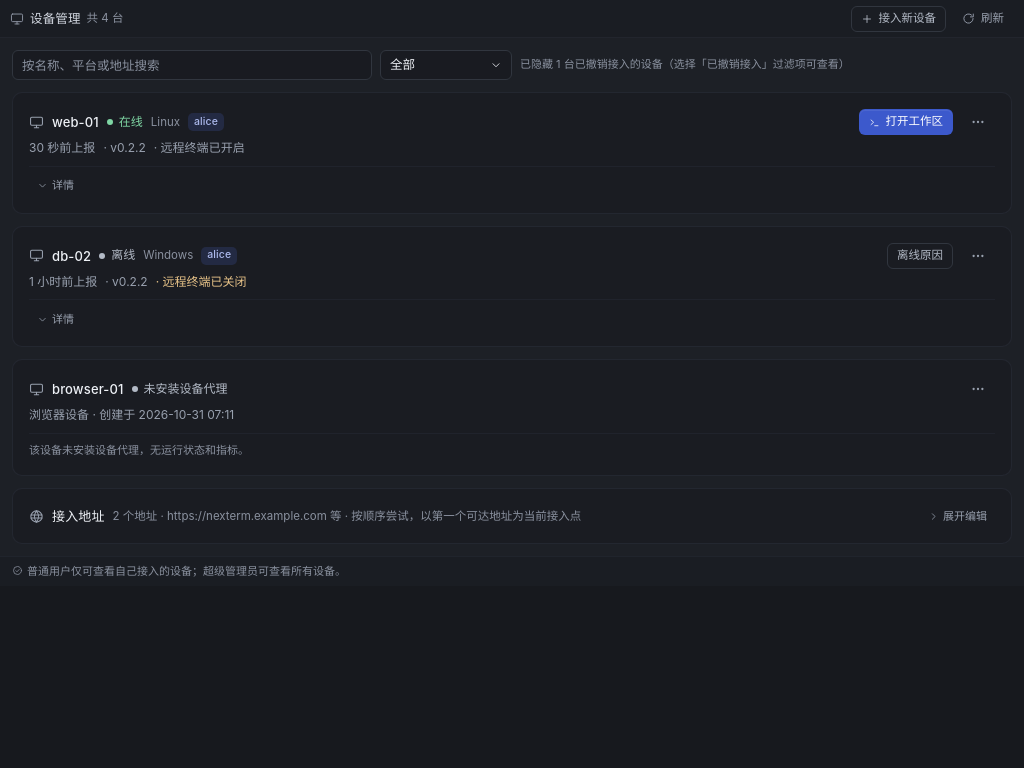
Test case: Device management view - device list and metrics › reports missing runtime status for non-agent devices and provides no actions for revoked devices
Expected: the element with class "nx-card" shows "无运行状态和指标", [29, 443, 249, 457]
Click the button "全部" at (446, 65), box [380, 50, 512, 80]
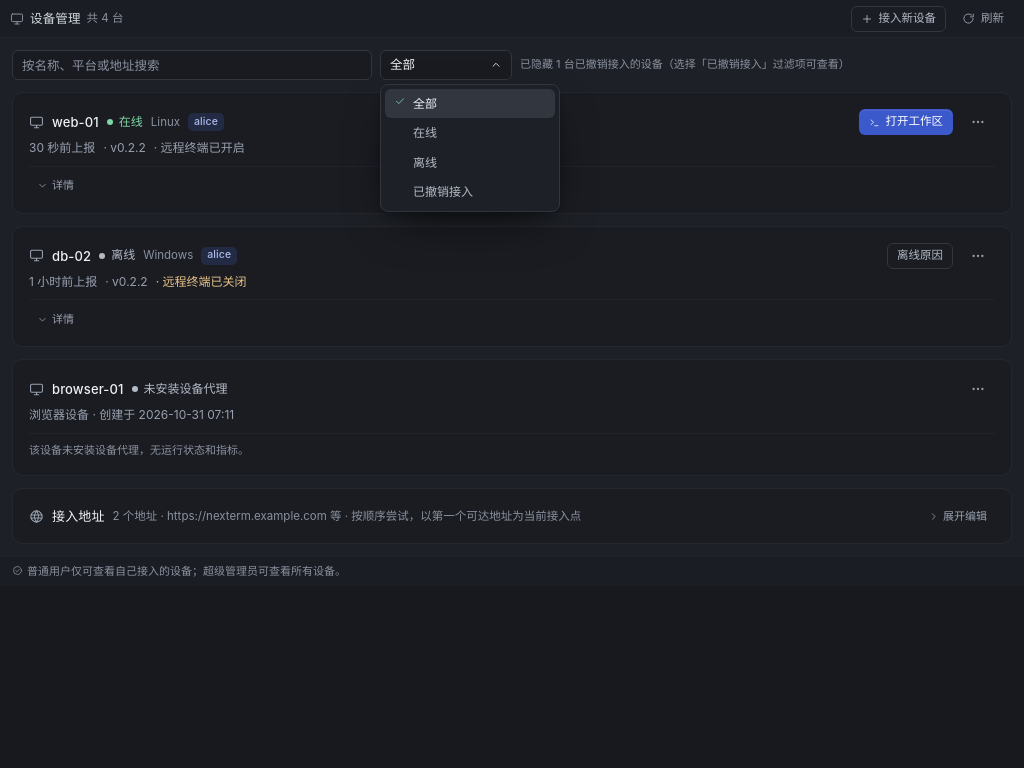
Click the option "已撤销接入" at (443, 192), box [413, 184, 473, 199]
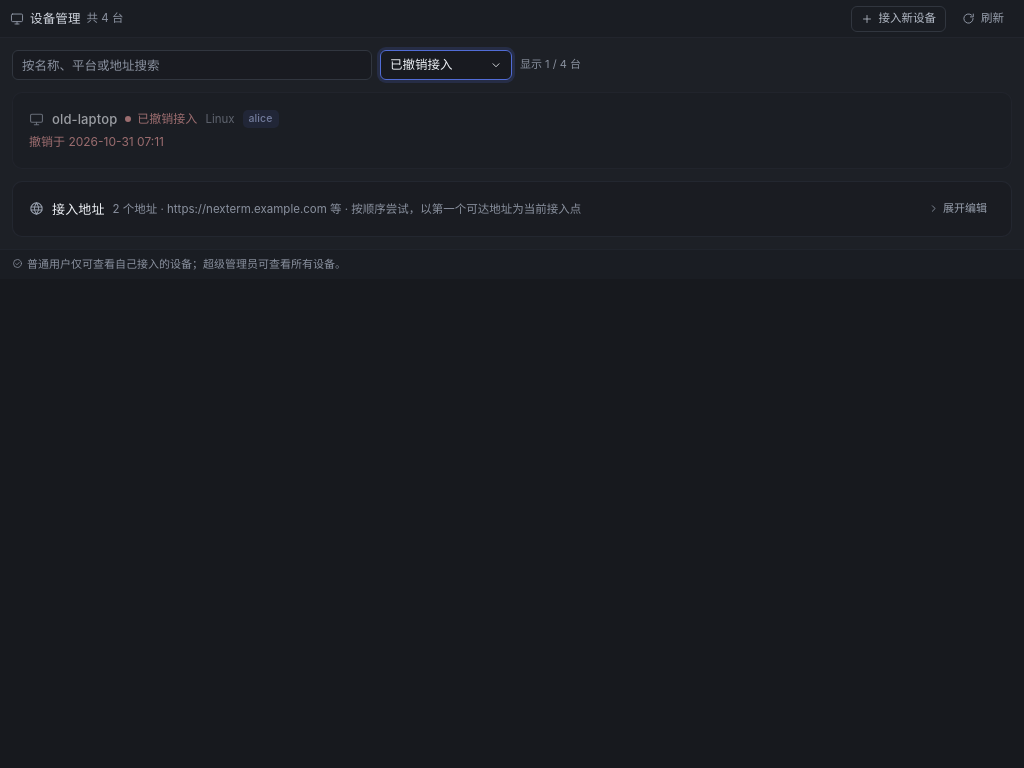
Now the element with class "nx-card" shows "已撤销接入", box [137, 111, 197, 126]
